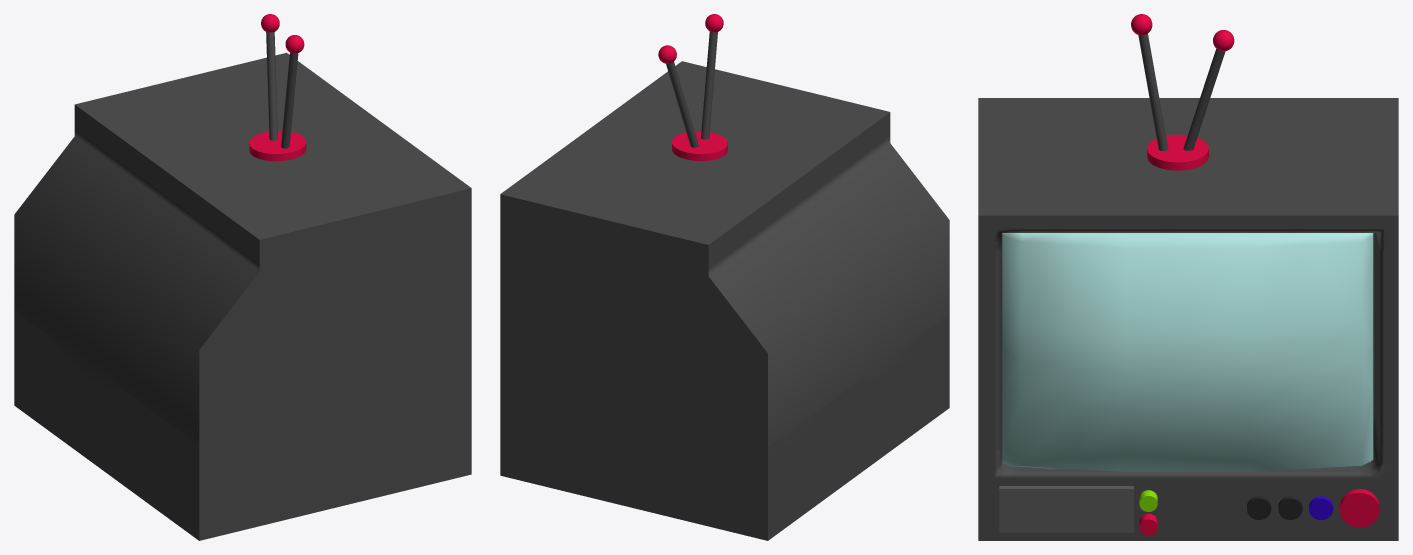
3 views of the same model, side by side, from view 1: azimuth 30°, elevation 25°; view 2: azimuth 150°, elevation 25°; view 3: azimuth 270°, elevation 25° (orthographic). The views are drawn at different scales.
Parts seen in each view (by area): view 1: polySurface1, polySurface7, polySurface8, polySurface6; view 2: polySurface1, polySurface7, polySurface6, polySurface8; view 3: polySurface14, polySurface1, polySurface11, polySurface7, polySurface2, polySurface6, polySurface8.
Part boxes in pixels (box(x1,y1,x2,y2)): polySurface1: box(14, 52, 471, 540); polySurface7: box(249, 130, 306, 161); polySurface8: box(266, 32, 277, 140); polySurface6: box(281, 52, 298, 148); polySurface1: box(500, 61, 949, 540); polySurface7: box(672, 131, 727, 161); polySurface6: box(701, 31, 717, 139); polySurface8: box(666, 62, 698, 147); polySurface14: box(1002, 233, 1373, 471); polySurface1: box(978, 98, 1398, 540); polySurface11: box(999, 486, 1133, 532); polySurface7: box(1147, 134, 1208, 170); polySurface2: box(1339, 489, 1379, 527); polySurface6: box(1138, 33, 1168, 151); polySurface8: box(1183, 49, 1225, 150).
Size of the model in its own units: 1.15 by 1.49 by 1.21.
